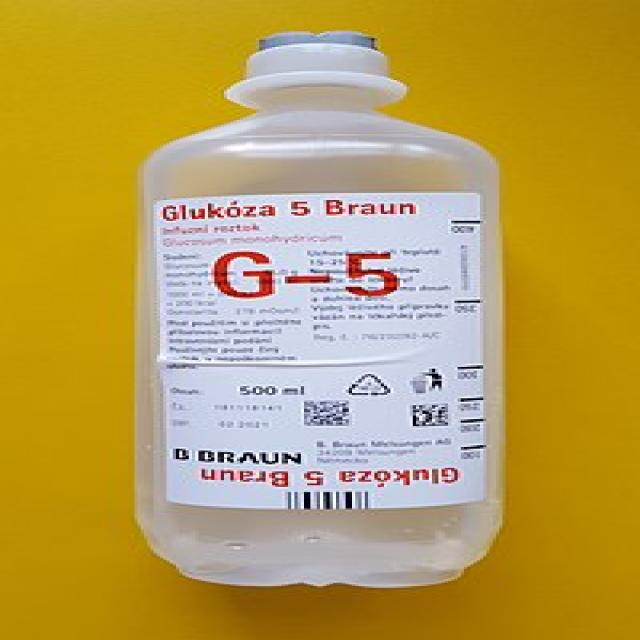B3: (122, 18, 539, 599)
